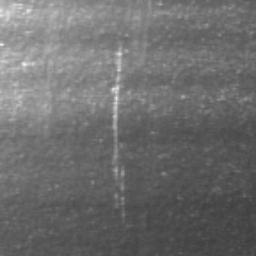Bright scratch: (112, 43, 125, 219)
